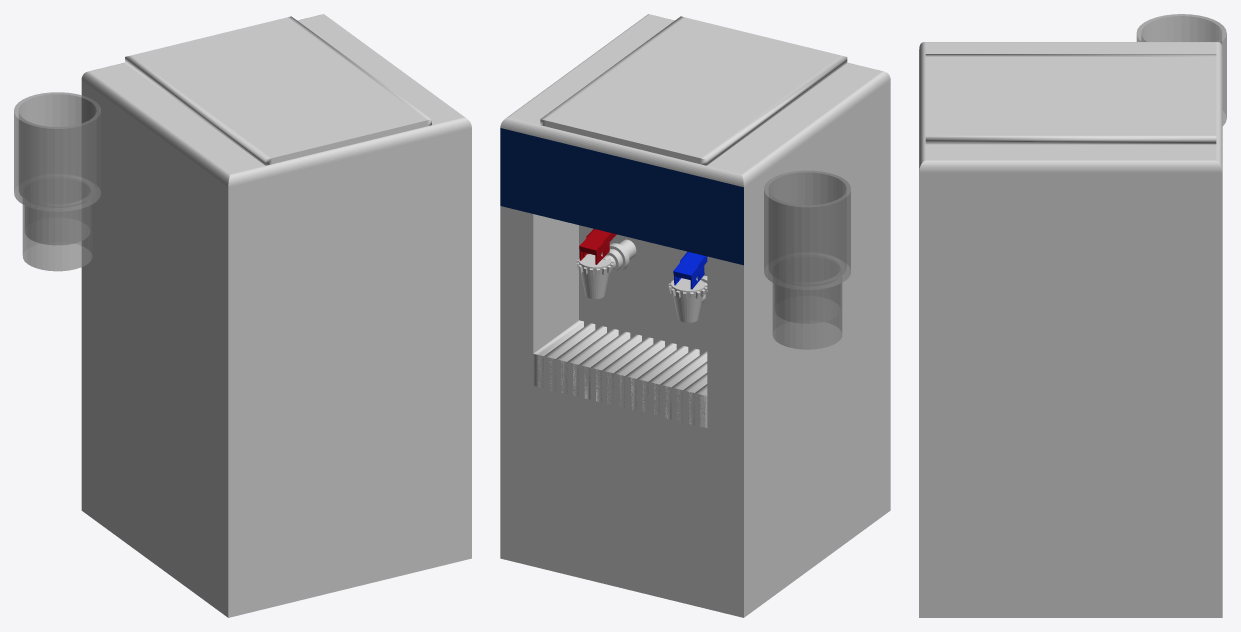
The model's file is dispenser piola.fbx.
3 renders of one model, left to right at view 1: azimuth 30°, elevation 25°; view 2: azimuth 150°, elevation 25°; view 3: azimuth 270°, elevation 25°, orthographic. The views are drawn at different scales.
Parts seen in each view (by area): view 1: Cylinder, Cylinder.005; view 2: Cylinder, Cylinder.005, Cylinder.004, Cylinder.001, Cube.001, Cube.002, Cylinder.002; view 3: Cylinder, Cylinder.005.
Boxes of the visible parts, x1,y1,x2,y2 form: Cylinder: (81, 14, 471, 617); Cylinder.005: (14, 92, 100, 271); Cylinder: (500, 14, 890, 617); Cylinder.005: (764, 170, 850, 349); Cylinder.004: (668, 278, 707, 322); Cylinder.001: (576, 254, 613, 298); Cube.001: (673, 251, 707, 289); Cube.002: (579, 229, 616, 264); Cylinder.002: (602, 239, 636, 273); Cylinder: (919, 42, 1222, 617); Cylinder.005: (1136, 14, 1226, 125).
Bounding box in the file's own units: 303 × 397 × 240.
